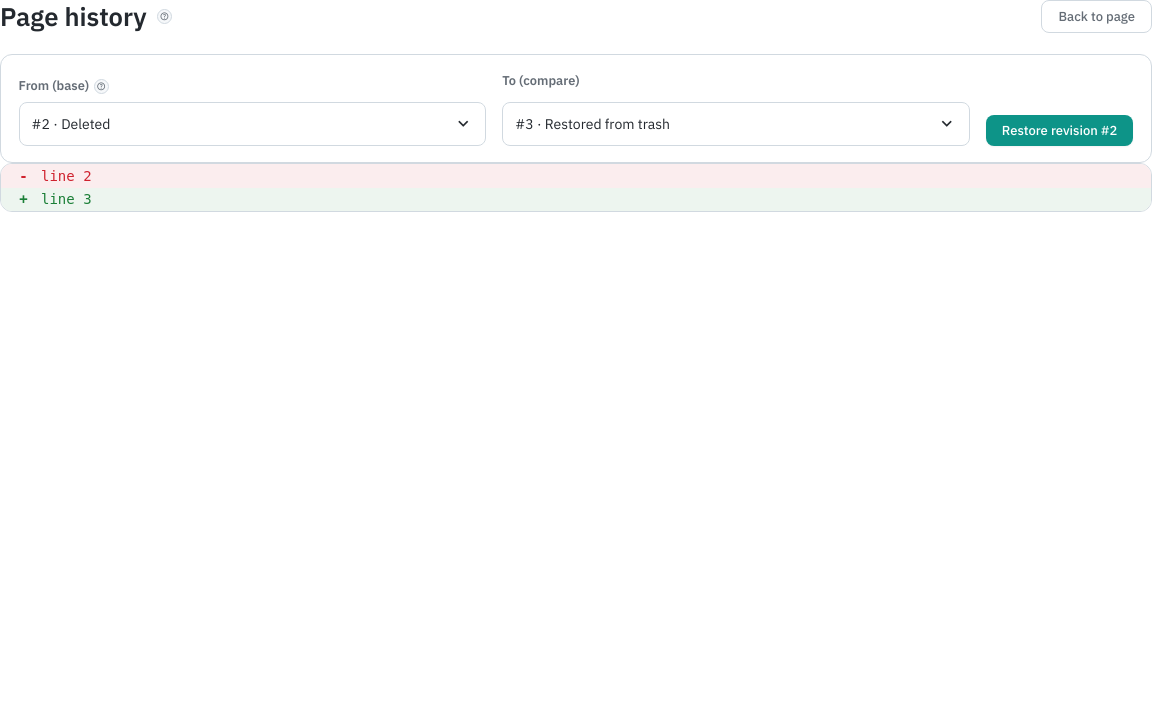
Test: PageHistory › labels restore with the From revision number and keeps hint behind HelpTip
Expected: the button "Restore revision #2" is shown, 986,115 -> 1133,146
Click the 2nd button with class "help-tip-trigger" at (101, 86), box 94,79 -> 108,94
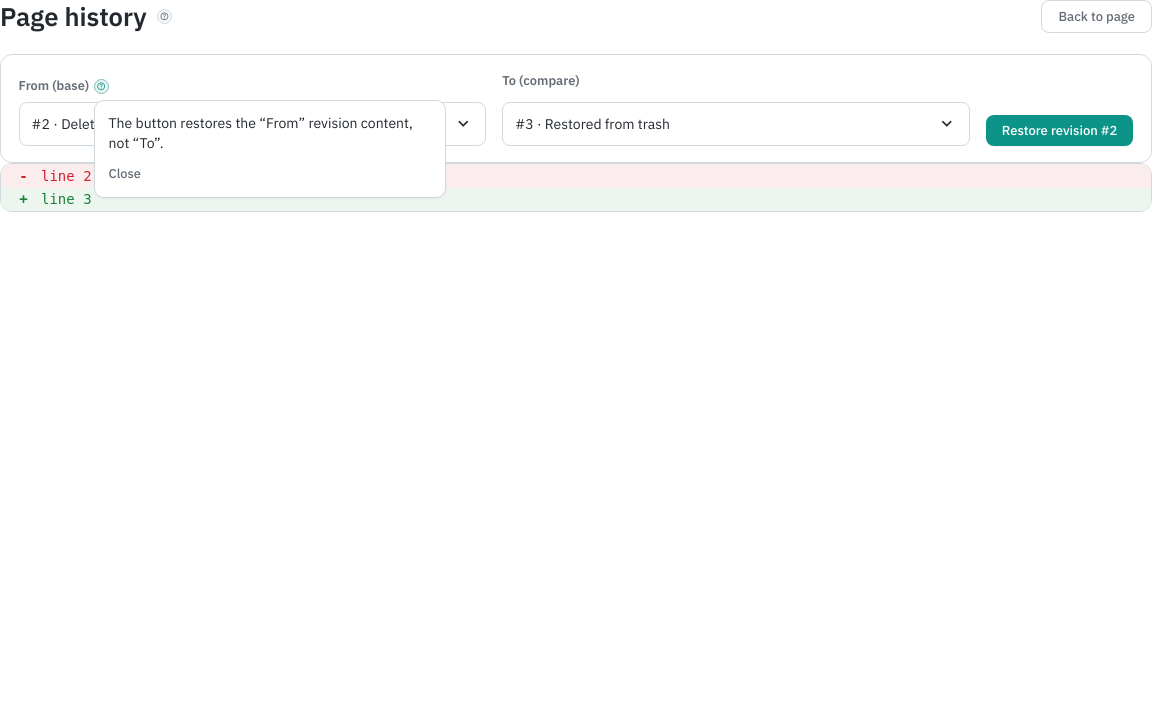
Result: the text "The button restores the “From” revision content" is shown at 109,114 -> 413,152
